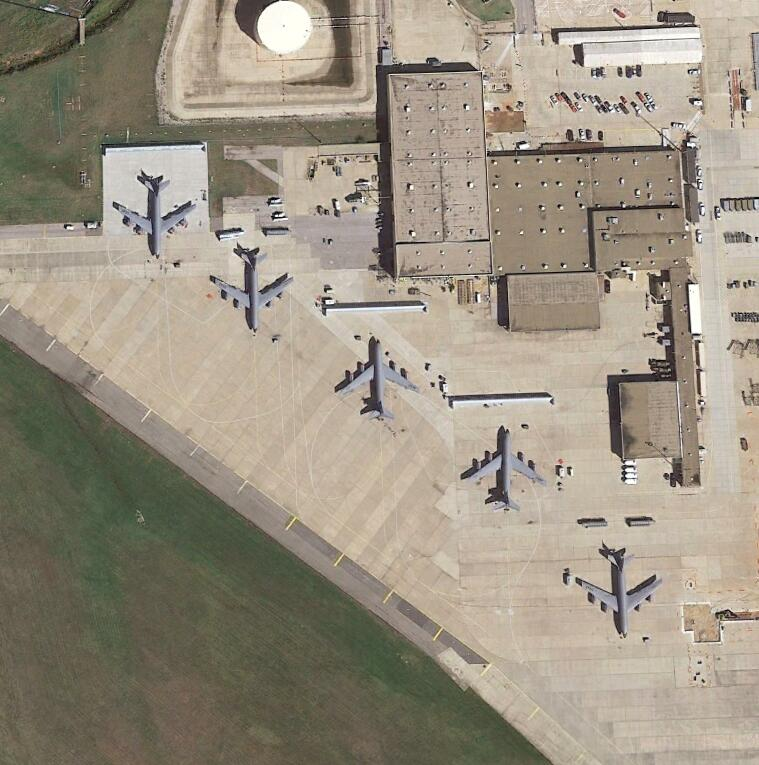A14: (577, 550, 665, 636), (209, 247, 295, 333), (460, 426, 548, 510), (335, 338, 422, 421), (115, 176, 199, 259)
